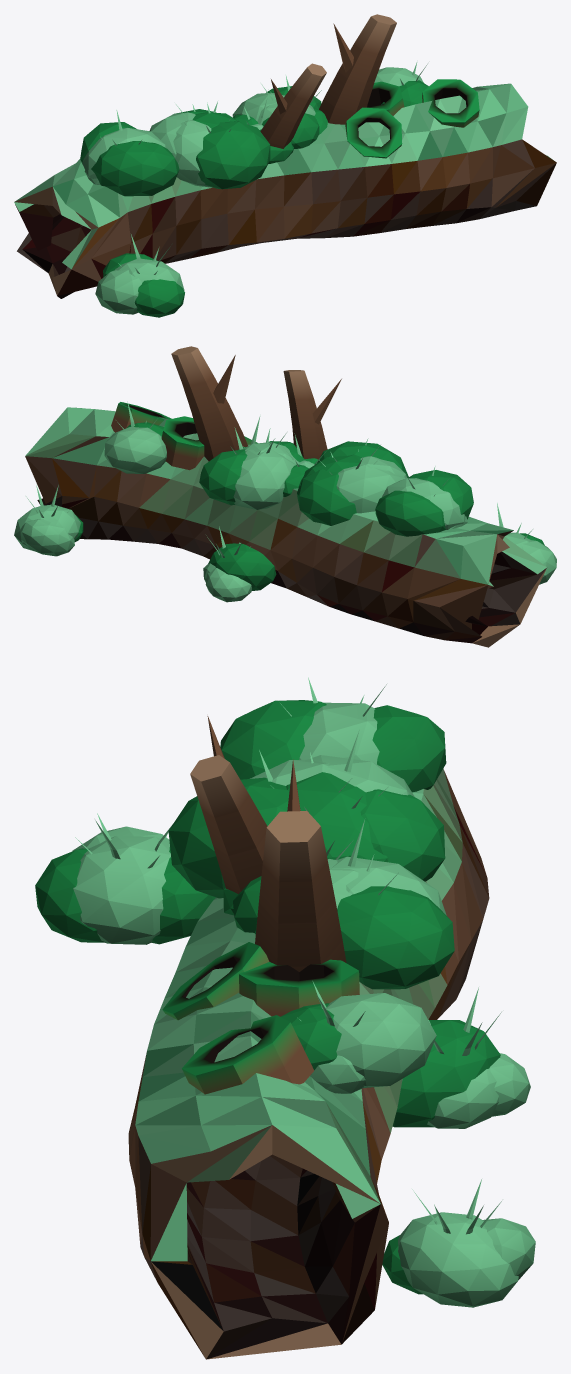
The model's file is pohon_tumbang_hollow_rainforest_218483.glb.
The picture shows the model from 3 angles, top to bottom: view 1: azimuth 30°, elevation 25°; view 2: azimuth 150°, elevation 25°; view 3: azimuth 270°, elevation 25°; orthographic projection. The views are drawn at different scales.
Parts seen in each view (by area): view 1: Batang_Pohon_Berlubang; view 2: Batang_Pohon_Berlubang; view 3: Batang_Pohon_Berlubang.
Boxes of the visible parts, left/top/right/bottom form: Batang_Pohon_Berlubang: left=14, top=14, right=556, bottom=317; Batang_Pohon_Berlubang: left=14, top=346, right=556, bottom=647; Batang_Pohon_Berlubang: left=35, top=677, right=535, bottom=1359.
Size of the model in its own units: 6.55 by 2.91 by 3.
